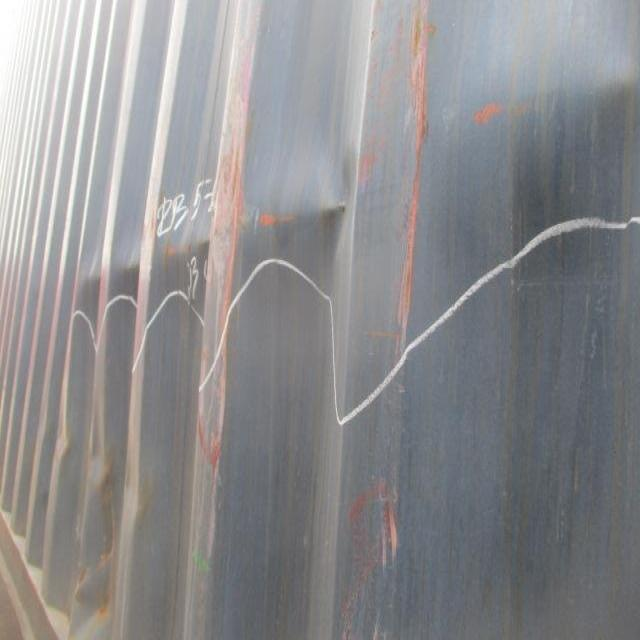dent: (67, 124, 364, 369), (412, 2, 640, 276), (24, 393, 178, 640)
